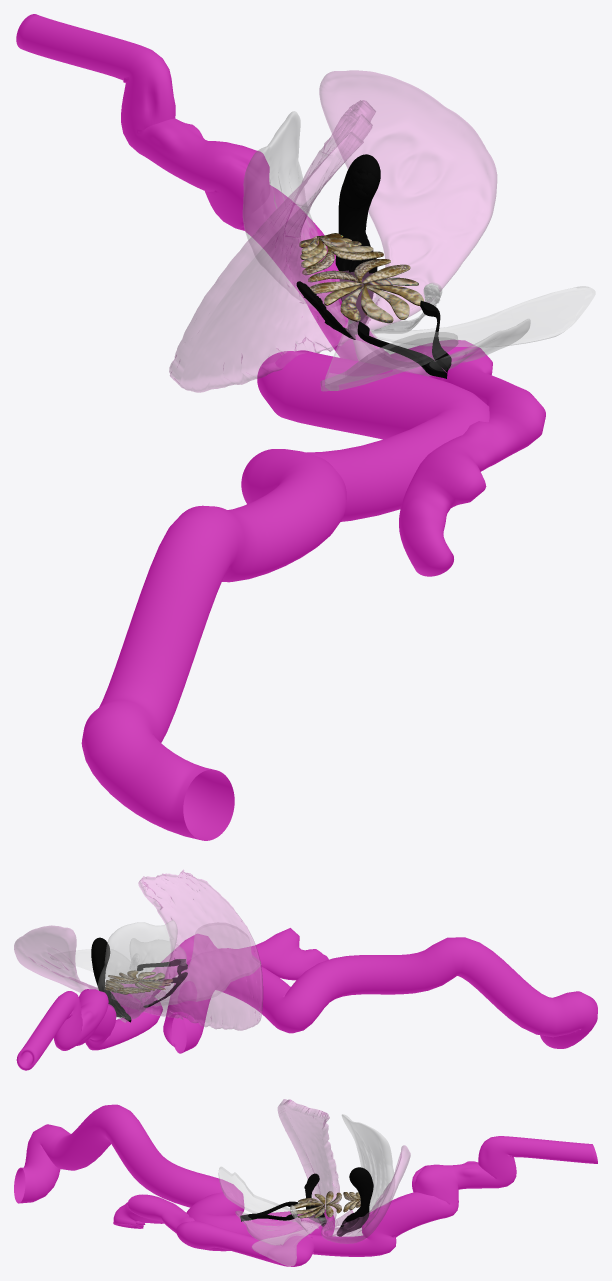
The picture shows the model from 3 angles, top to bottom: view 1: azimuth 30°, elevation 25°; view 2: azimuth 150°, elevation 25°; view 3: azimuth 270°, elevation 25°; orthographic projection. The views are drawn at different scales.
Visible parts, largest first — view 1: branch.006, branch.004, 10, 1, 8, 12, 6, 10.002, 8.002; view 2: branch.006, 1, branch.004, 8, 6, 10, 8.002, 12, 10.002; view 3: branch.004, branch.006, 1, 8, 10, 6, 8.002, 12, 10.002, 10.003, BézierCurve.032, 10.004.
Boxes of the visible parts, left/top/right/bottom form: branch.006: left=81, top=350, right=489, bottom=840; branch.004: left=16, top=14, right=545, bottom=576; 10: left=319, top=70, right=497, bottom=330; 1: left=169, top=100, right=375, bottom=392; 8: left=243, top=111, right=345, bottom=325; 12: left=369, top=286, right=595, bottom=347; 6: left=320, top=320, right=458, bottom=391; 10.002: left=335, top=154, right=380, bottom=330; 8.002: left=348, top=319, right=530, bottom=376; branch.006: left=163, top=937, right=597, bottom=1053; 1: left=138, top=869, right=262, bottom=1030; branch.004: left=16, top=928, right=328, bottom=1070; 8: left=98, top=920, right=177, bottom=1022; 6: left=153, top=922, right=260, bottom=1005; 10: left=14, top=925, right=138, bottom=1009; 8.002: left=130, top=938, right=186, bottom=1000; 12: left=50, top=949, right=140, bottom=1000; 10.002: left=91, top=937, right=131, bottom=1022; branch.004: left=113, top=1136, right=597, bottom=1266; branch.006: left=14, top=1104, right=334, bottom=1251; 1: left=278, top=1099, right=339, bottom=1226; 8: left=342, top=1114, right=394, bottom=1234; 10: left=321, top=1145, right=410, bottom=1243; 6: left=218, top=1167, right=328, bottom=1222; 8.002: left=235, top=1211, right=325, bottom=1244; 12: left=252, top=1222, right=323, bottom=1265; 10.002: left=336, top=1167, right=373, bottom=1236; 10.003: left=304, top=1173, right=326, bottom=1226; BézierCurve.032: left=240, top=1213, right=297, bottom=1220; 10.004: left=290, top=1205, right=318, bottom=1233.
Size of the model in its own units: 7.23 by 3.77 by 9.76.
Materials: 5 (1 with a texture image).
